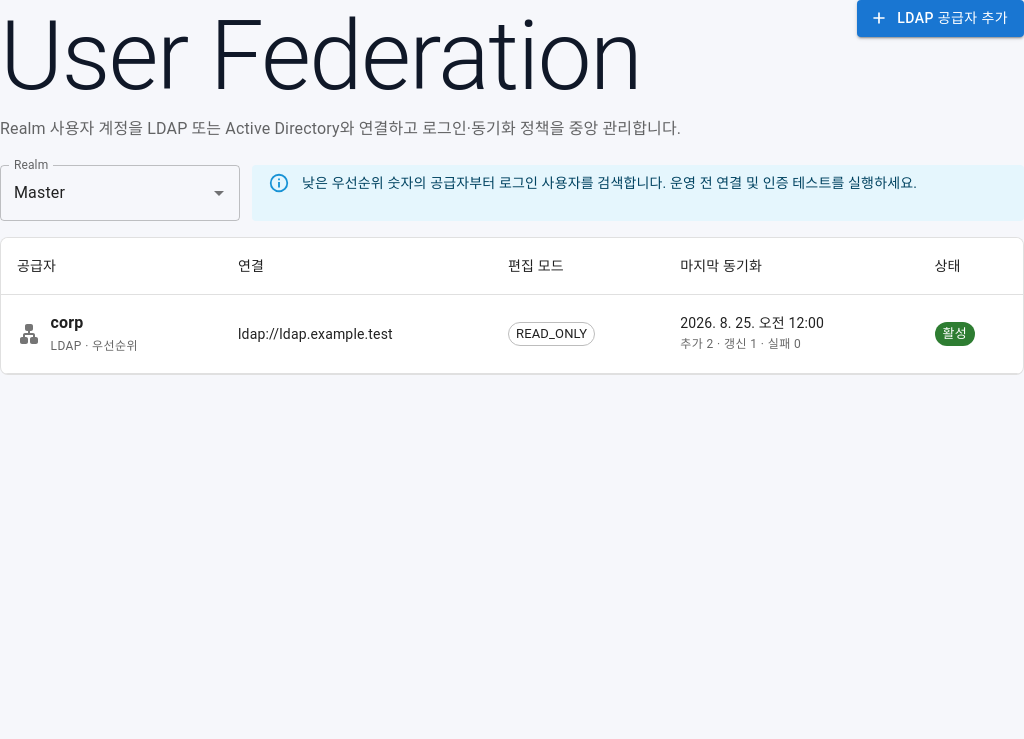
Test: the sync outcome says how many accounts it disabled
Click the text "corp" at (67,322), box [51, 313, 84, 332]
(page scrolled)
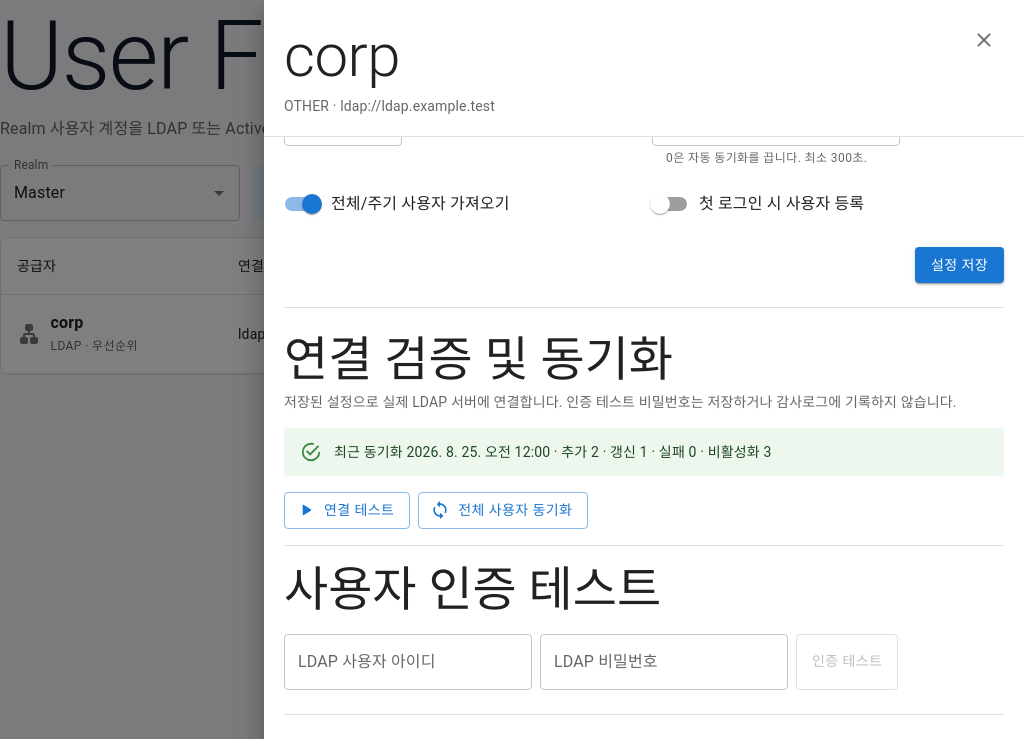
Check: the text "추가 2 · 갱신 1 · 실패 0 · 비활성화 3" is shown, box [334, 444, 771, 460]
